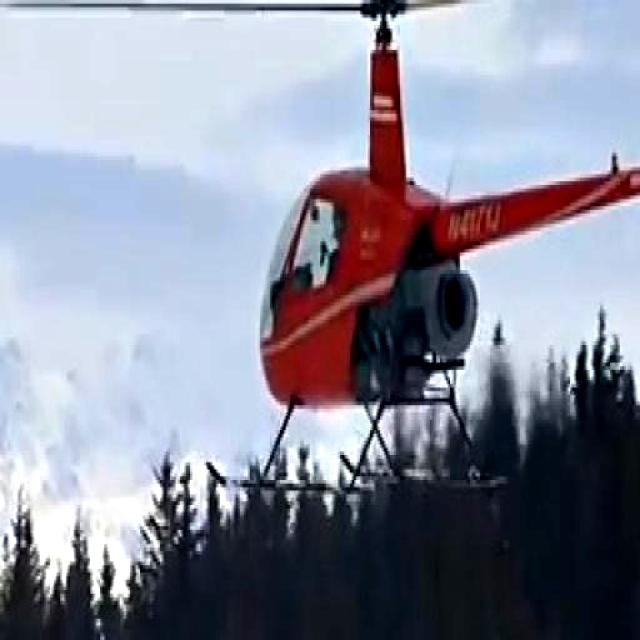drone: (0, 0, 640, 500)
